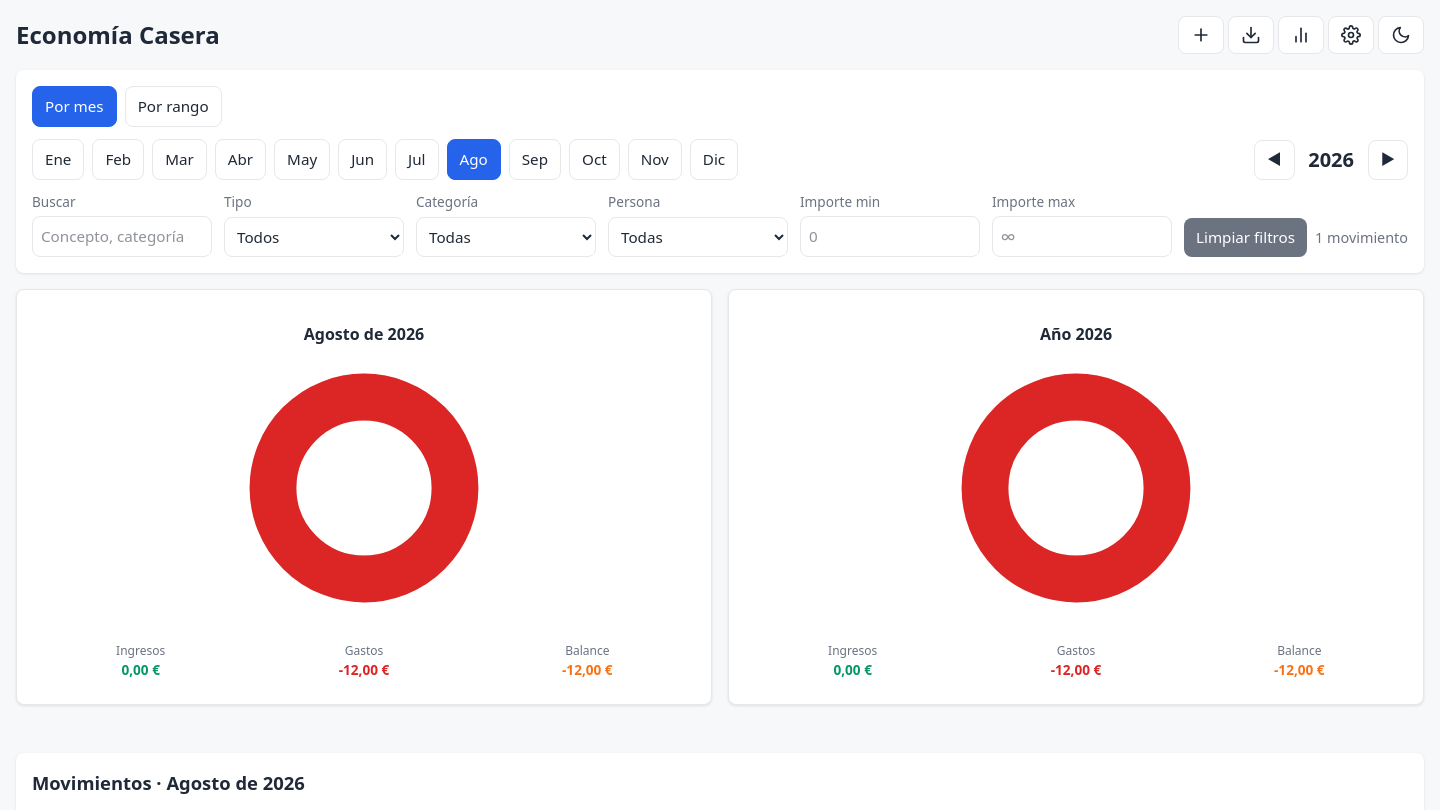
Test: App › updates the existing transaction from the similar dialog
This screenshot has width=1440, height=810.
Expected: the heading "Agosto de 2026" is shown, x1=304 y1=323 x2=424 y2=345
Click the button named "Añadir movimiento": (1201, 35) x1=1178 y1=16 x2=1224 y2=54
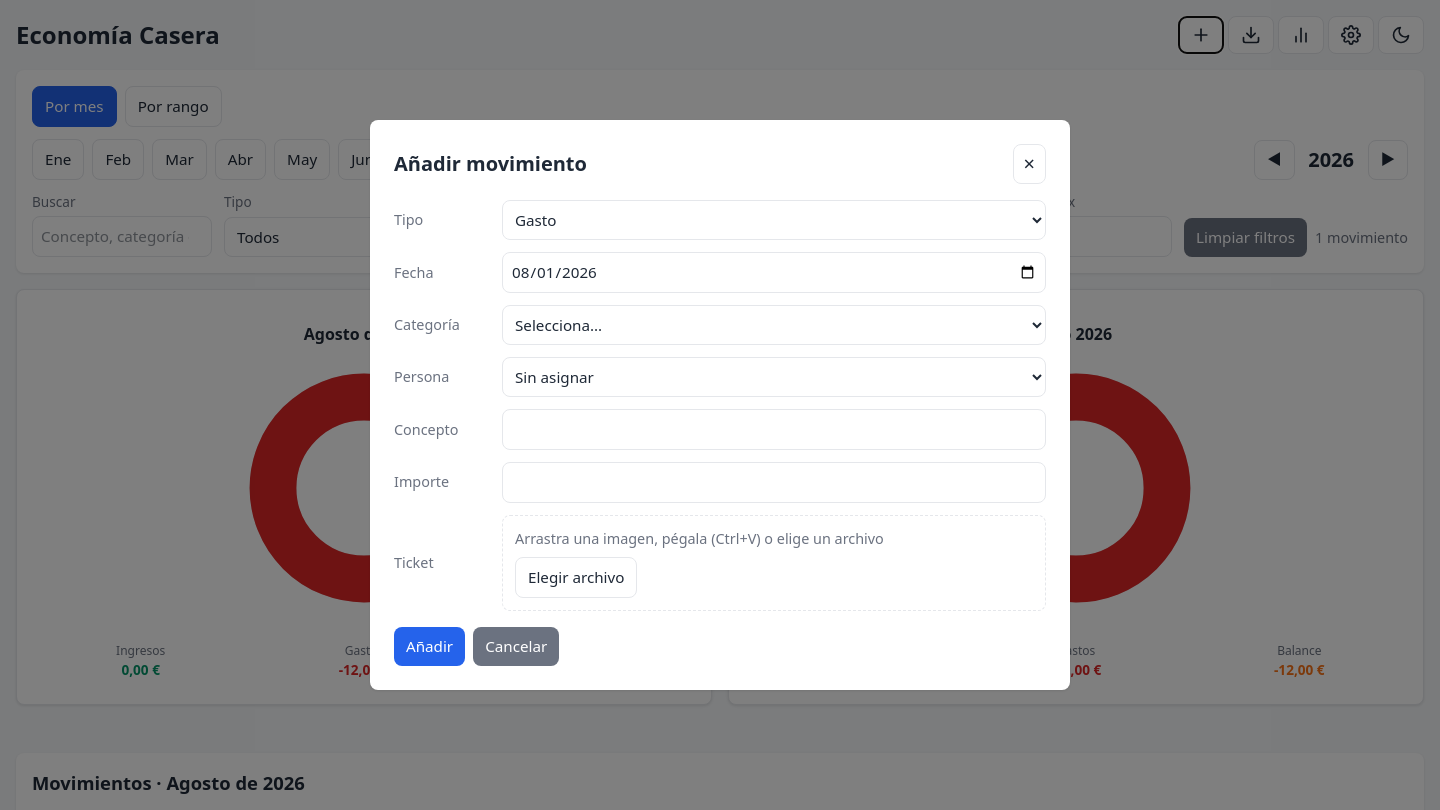
Select "Comida" in the dropdown labelled "Categoría": (774, 325) x1=502 y1=305 x2=1046 y2=345
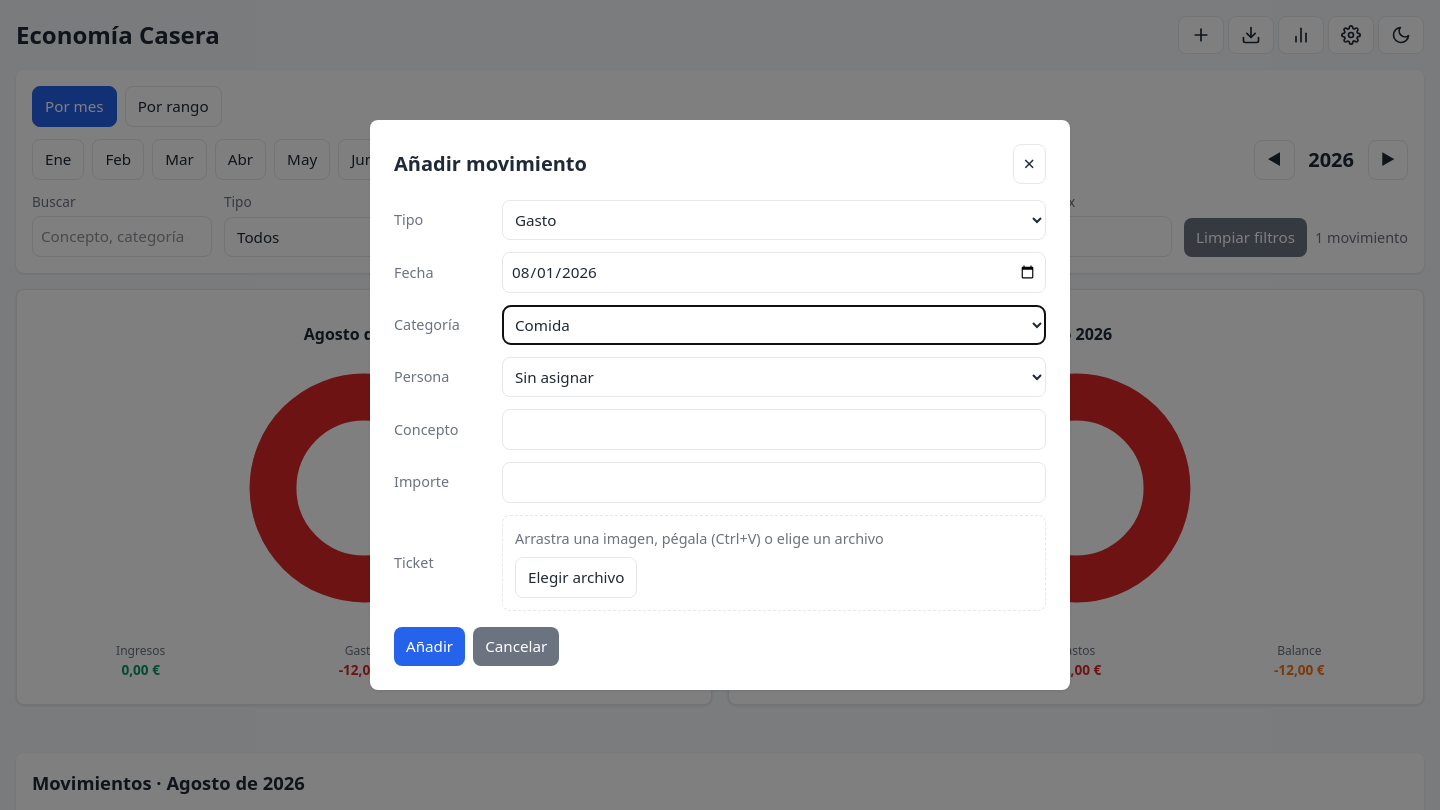
In the field labelled "Concepto": (774, 429) x1=502 y1=409 x2=1046 y2=450, type "Cine"
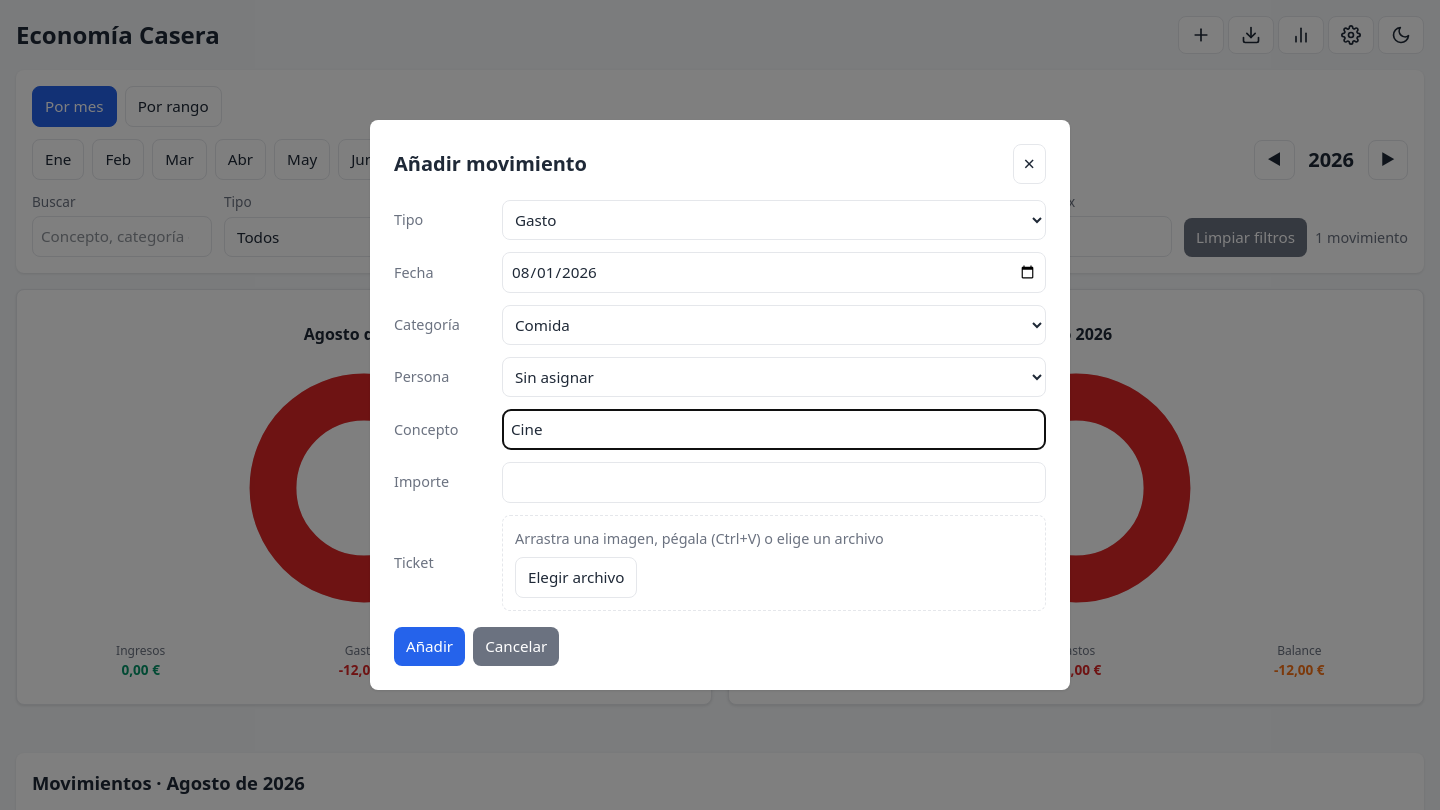
In the number field labelled "Importe": (774, 482) x1=502 y1=462 x2=1046 y2=503, type "12"
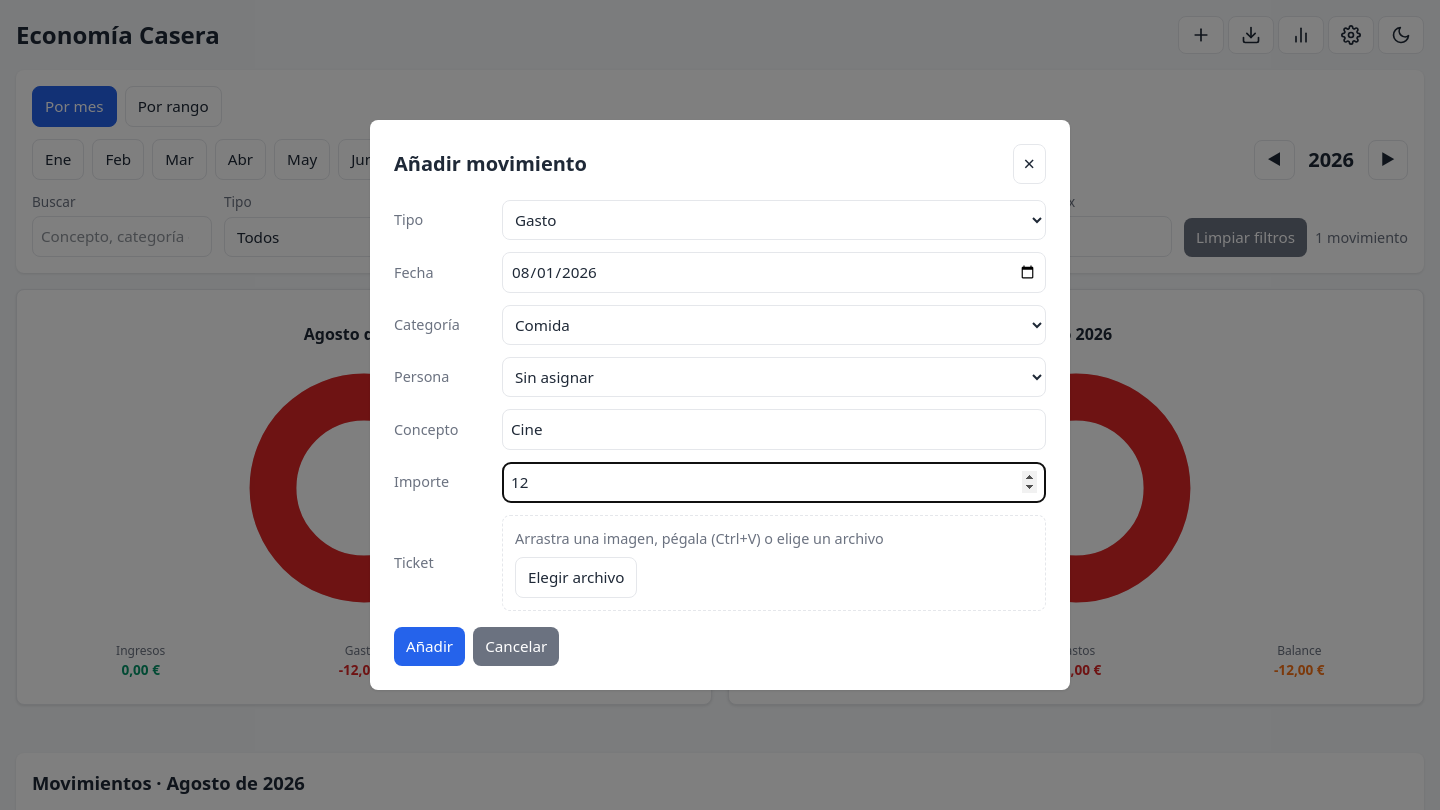
Click the button "Añadir": (430, 646) x1=394 y1=627 x2=465 y2=666
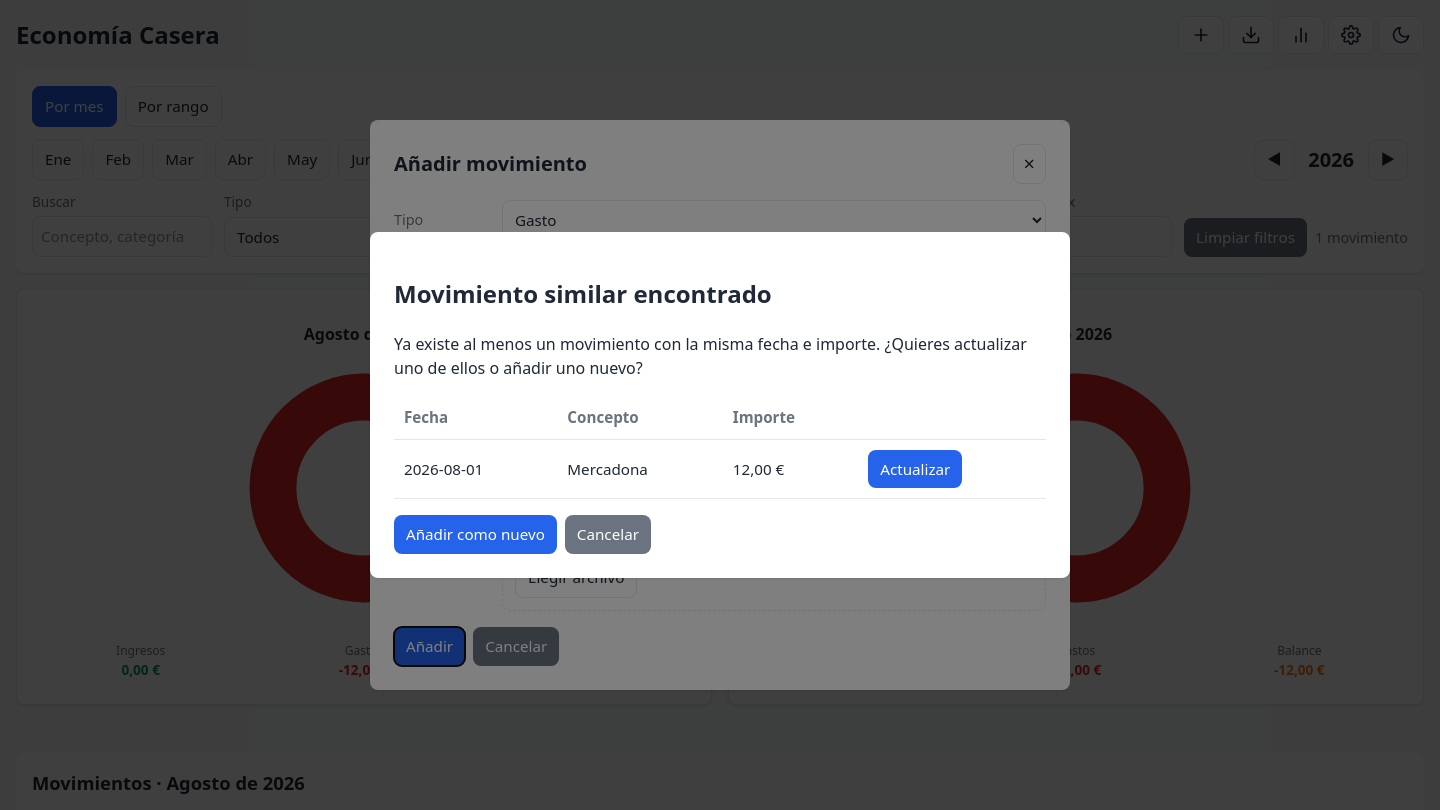
Click the button "Actualizar": (915, 469) x1=868 y1=450 x2=962 y2=488
(page scrolled)
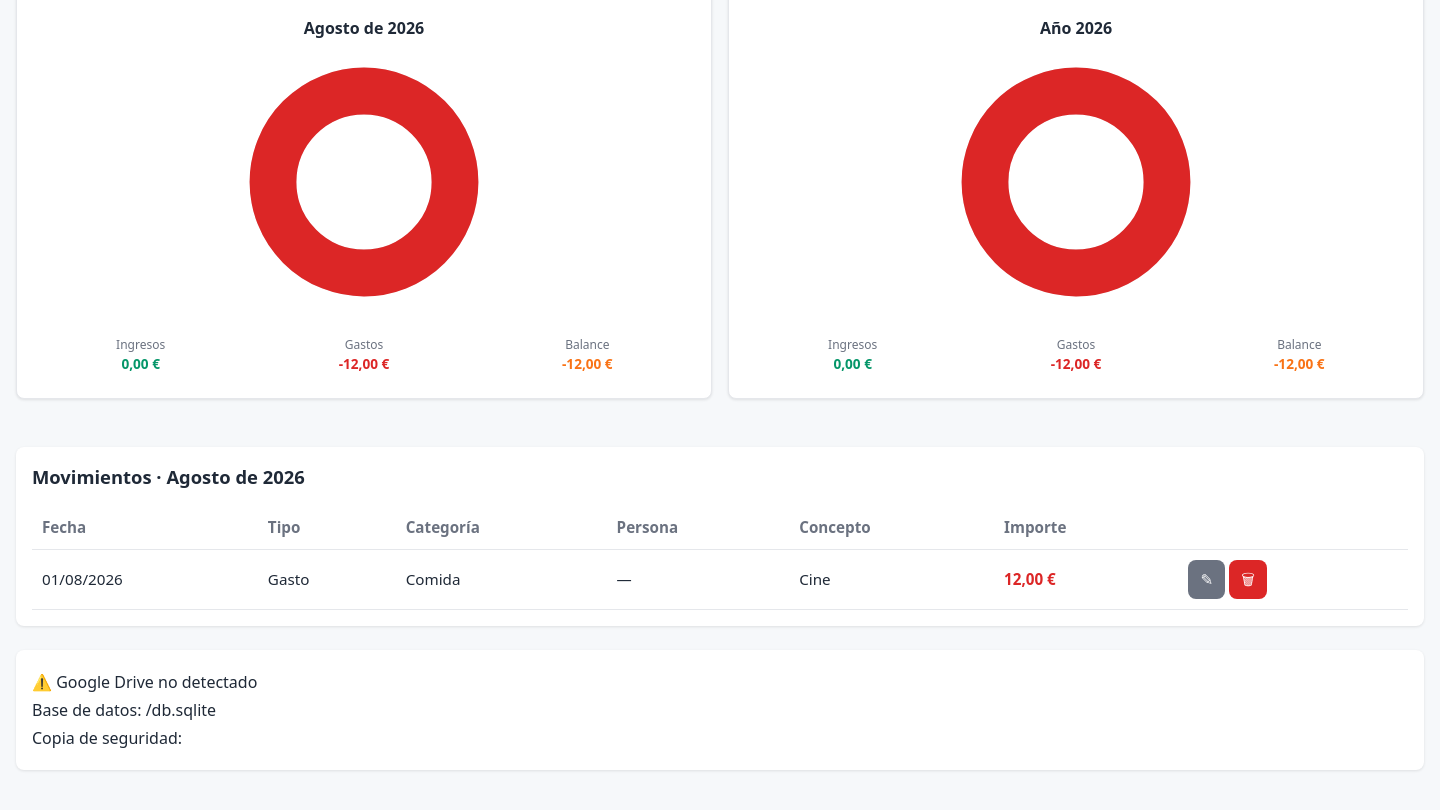
Expected: the text "Cine" is shown, x1=799 y1=568 x2=831 y2=591
